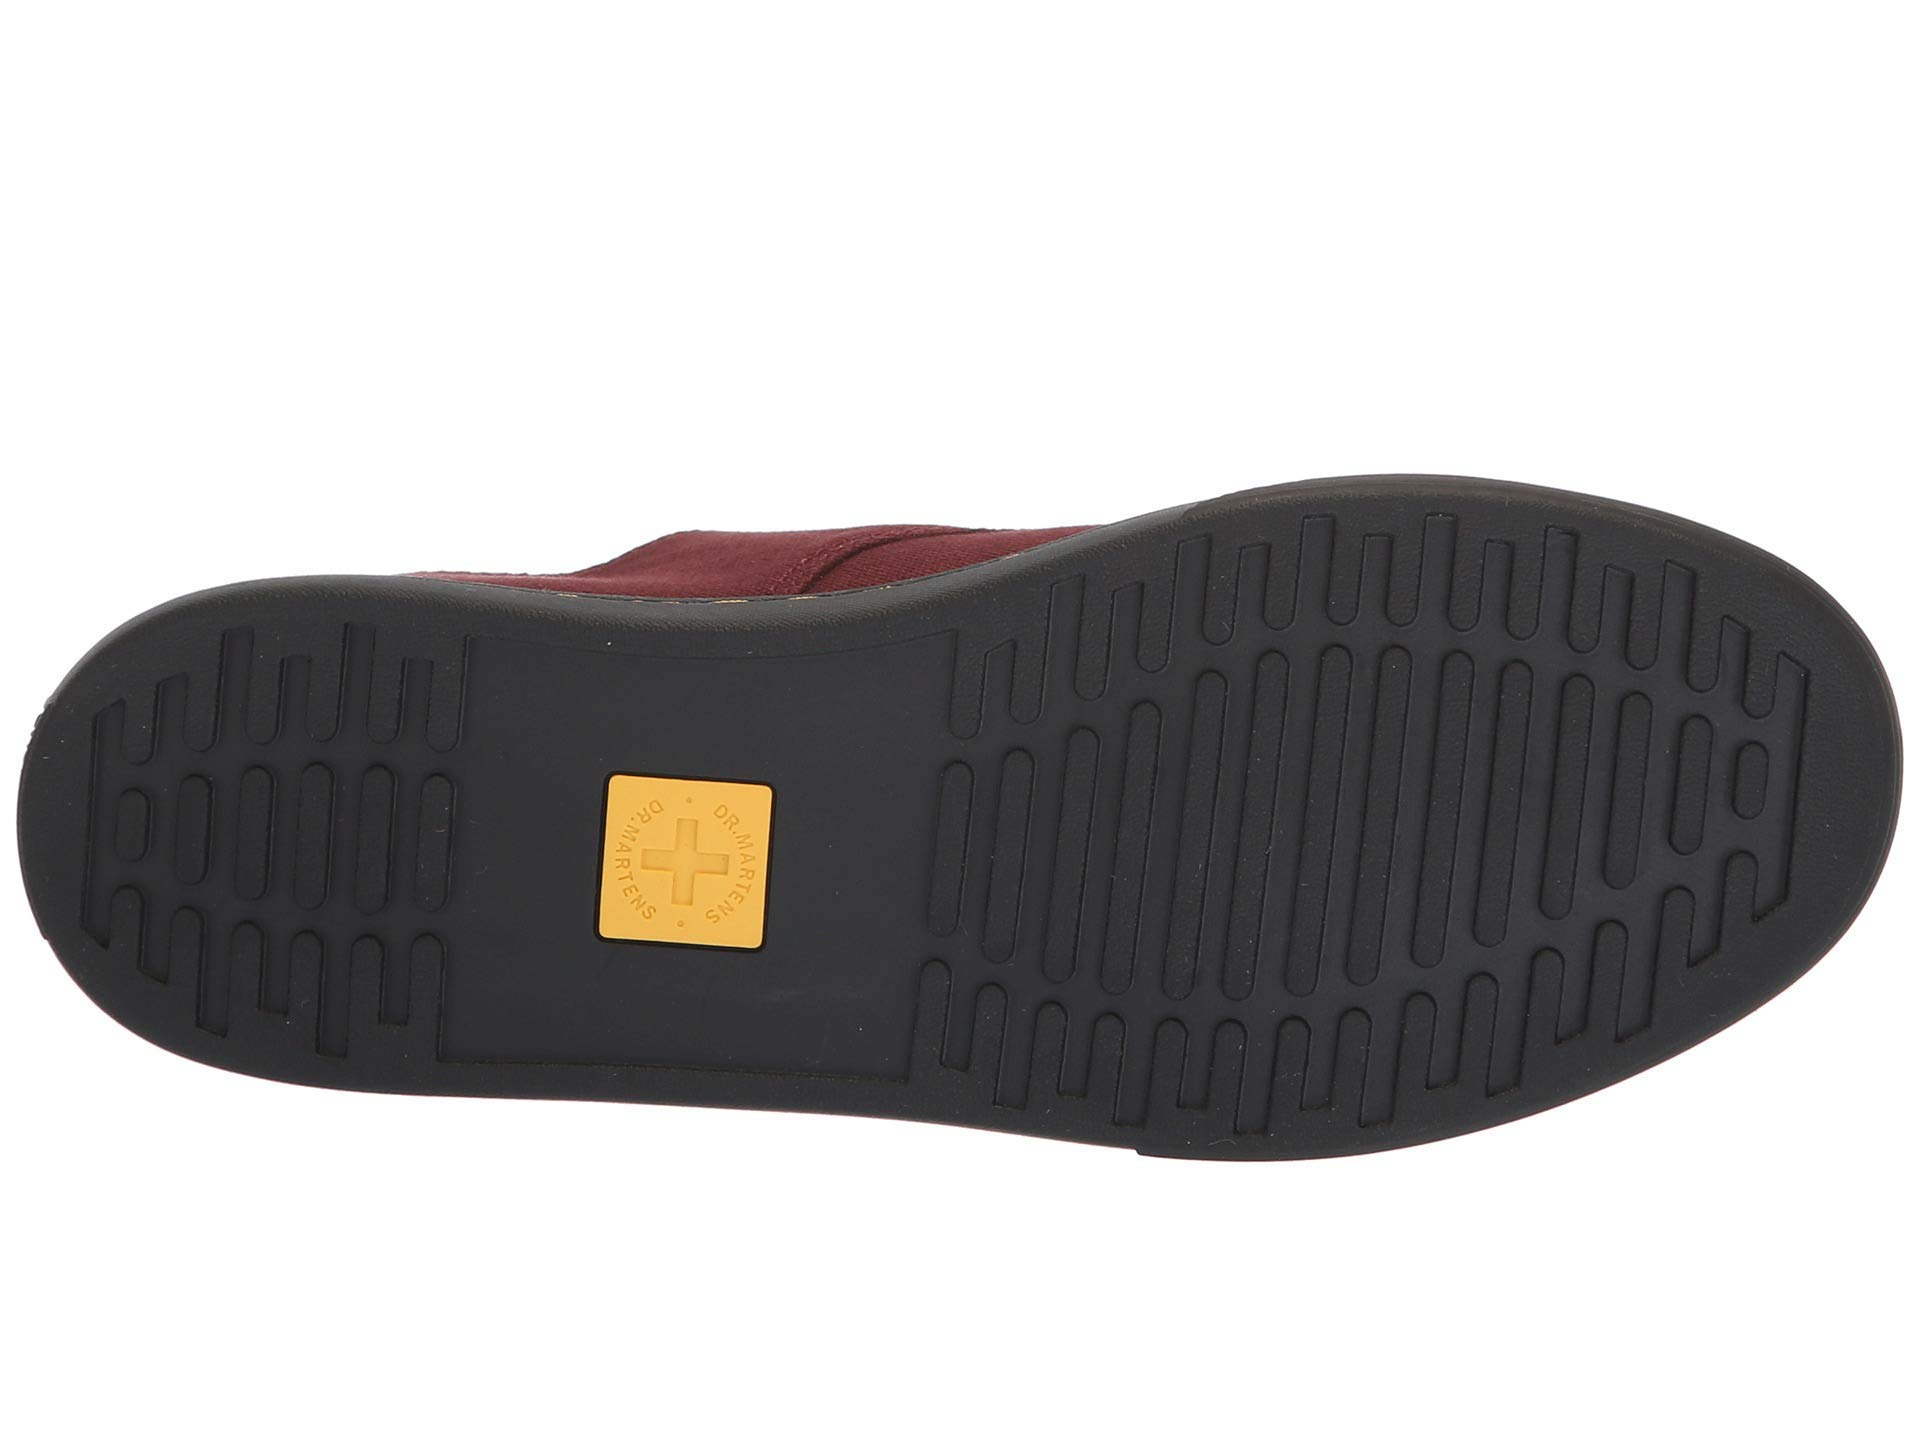quad: (848, 632, 1795, 1039), (76, 755, 475, 911), (553, 749, 800, 982)
star: (553, 749, 800, 982)
text: (553, 749, 800, 982)
